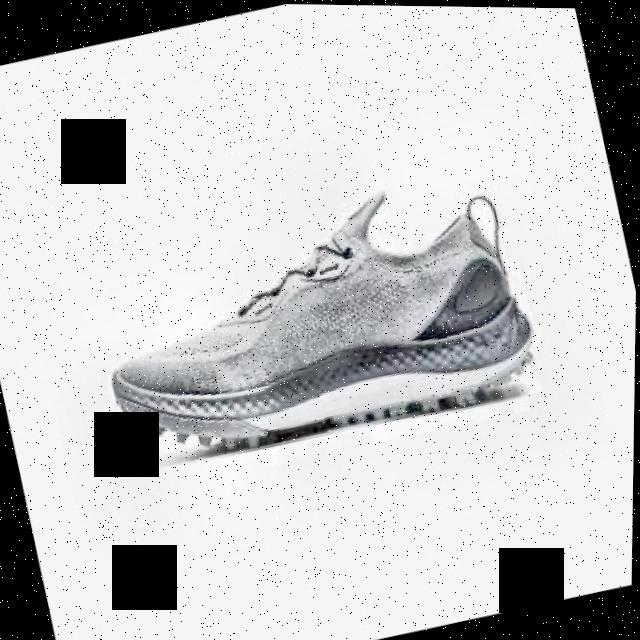shoe: (81, 157, 550, 481)
